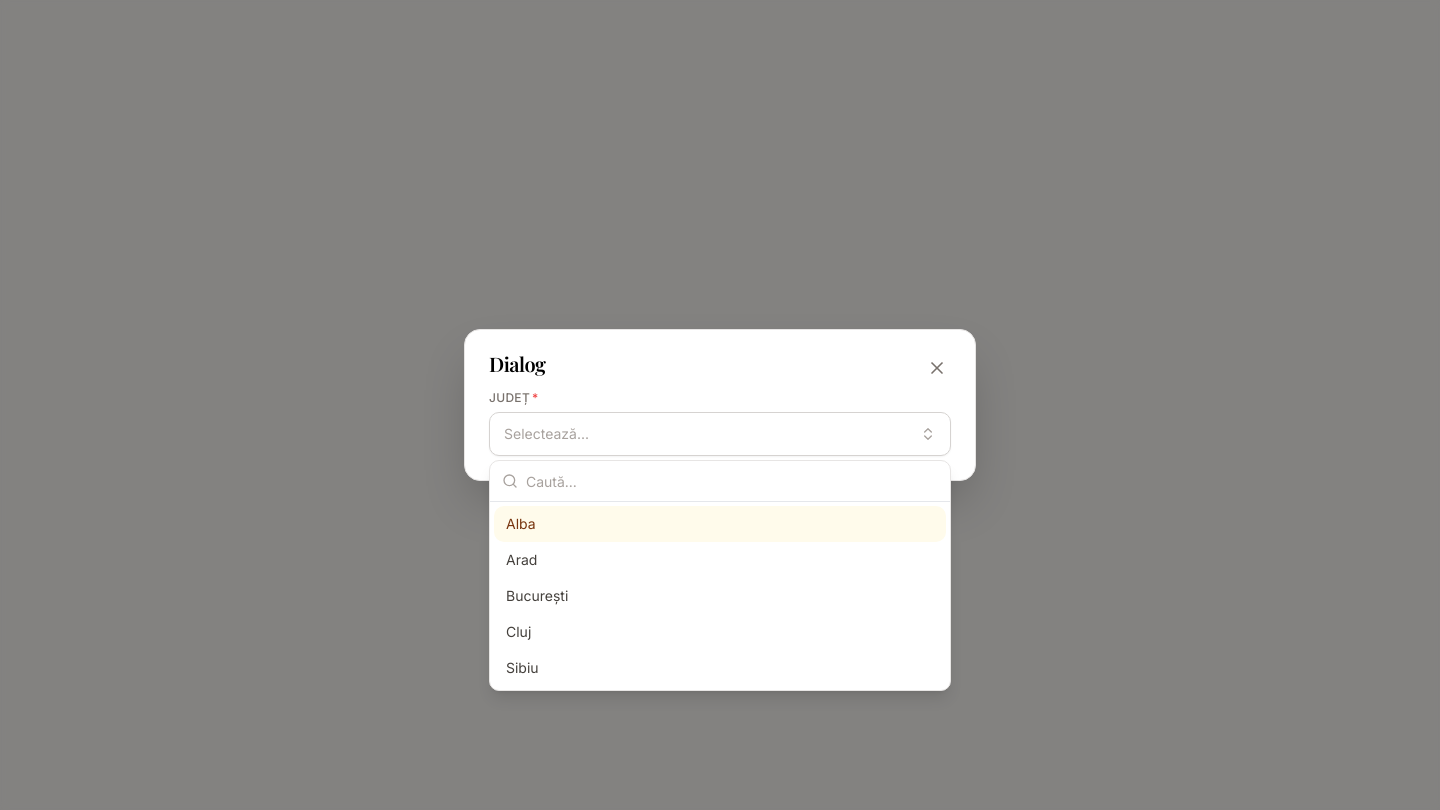
Test: works inside a Dialog: selection works and wheel scrolling is not blocked
Earlier steps of the test are not shown.
Click the option "Arad". click: click(522, 560)
box: [506,551,537,568]
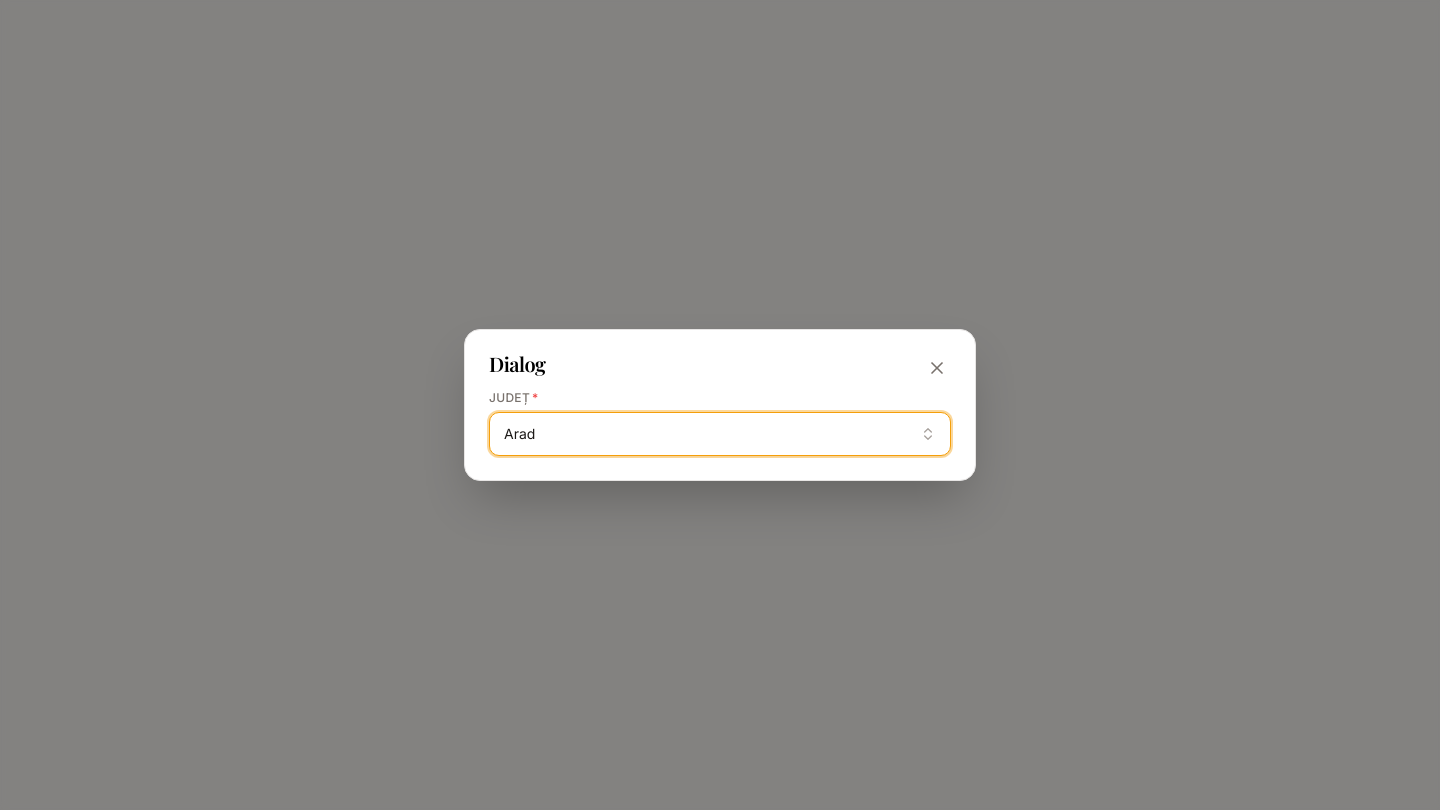
Check: the text "Arad" is shown, box [504,424,535,444]
